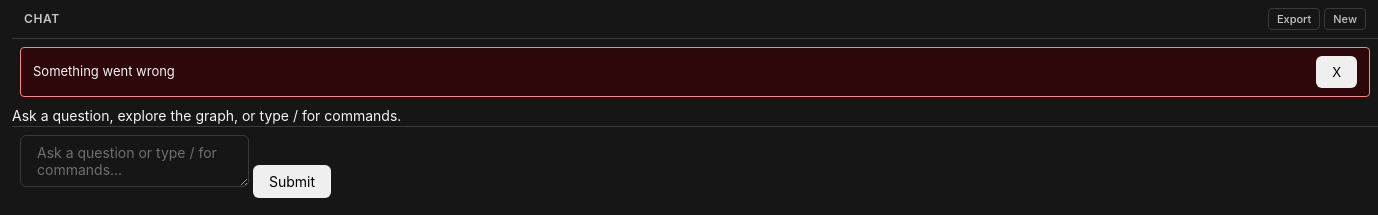
Test: ChatPanel — error UX › should dismiss the error alert when the dismiss button is clicked
Expected: the message "Something went wrong X" is shown, [20,47,1370,97]
Click the button with test id "chat-error-dismiss".
click(1337, 72)  # box [1316,56,1357,88]
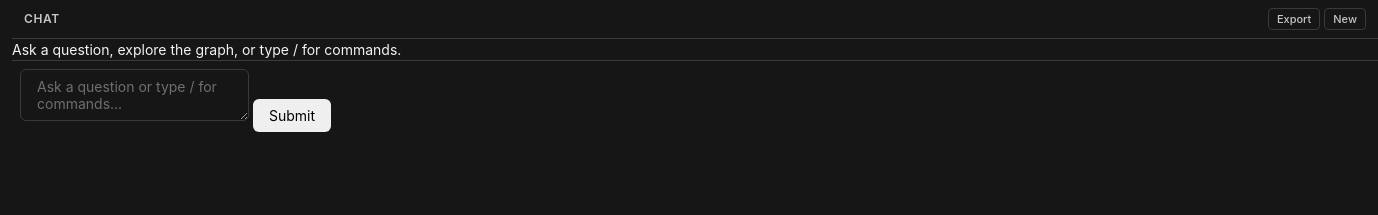
Expected: the message "Something went wrong X" is gone
